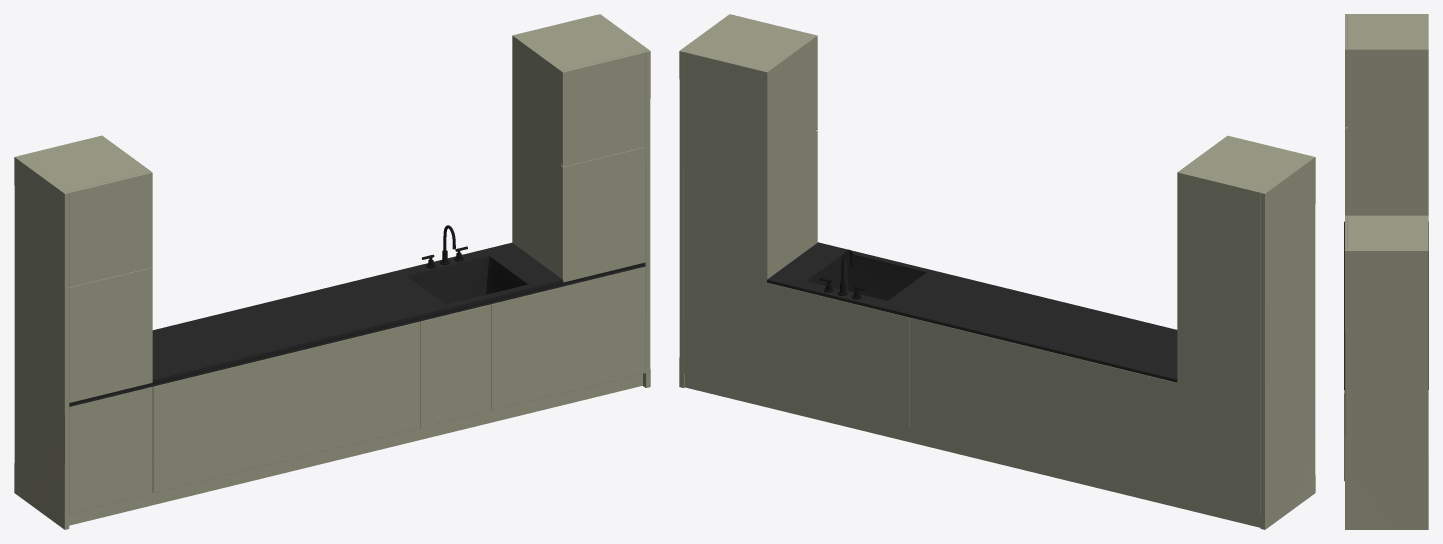
File: Kuhnya_03.glb
The picture shows the model from 3 angles, left to right: view 1: azimuth 30°, elevation 25°; view 2: azimuth 150°, elevation 25°; view 3: azimuth 270°, elevation 25°; orthographic projection. The views are drawn at different scales.
Parts seen in each view (by area): view 1: Group002, Object404, Object495, Line110, Box8439, Object501, Object412, Object411, Object500, Object497, Line108, Box8414 (+2 smaller); view 2: Box8439, Box8414, Object495, Line110, Box8443, Box8419, Box8416, Line108, Box8442, Box8438, Box8440, Group002; view 3: Group002, Box8414, Box8439, Object404, Line110, Object495.
Boxes of the visible parts, box(x1,y1,x2,y2) form: Group002: box(561, 14, 650, 393); Object404: box(68, 171, 152, 513); Object495: box(14, 156, 69, 529); Line110: box(152, 242, 563, 382); Box8439: box(512, 15, 643, 287); Object501: box(330, 322, 420, 449); Object412: box(240, 344, 330, 471); Object411: box(152, 365, 240, 492); Object500: box(420, 304, 491, 427); Object497: box(491, 287, 562, 410); Line108: box(69, 374, 642, 525); Box8414: box(19, 135, 150, 191); Box8439: box(684, 16, 815, 393); Box8414: box(1177, 136, 1308, 513); Object495: box(1260, 156, 1315, 529); Line110: box(767, 242, 1177, 382); Box8443: box(910, 317, 999, 449); Box8419: box(1000, 339, 1089, 471); Box8416: box(1089, 361, 1177, 492); Line108: box(684, 373, 1260, 527); Box8442: box(838, 300, 909, 427); Box8438: box(767, 283, 838, 409); Box8440: box(806, 253, 926, 301); Group002: box(679, 14, 817, 387); Group002: box(1345, 215, 1428, 529); Box8414: box(1347, 16, 1428, 215); Box8439: box(1347, 215, 1428, 249); Object404: box(1345, 16, 1347, 215); Line110: box(1344, 221, 1428, 389); Object495: box(1345, 14, 1428, 15).
Bounding box in the file's own units: 4.02 × 2.2 × 0.6078.
